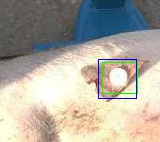text: (102, 62, 137, 93)
